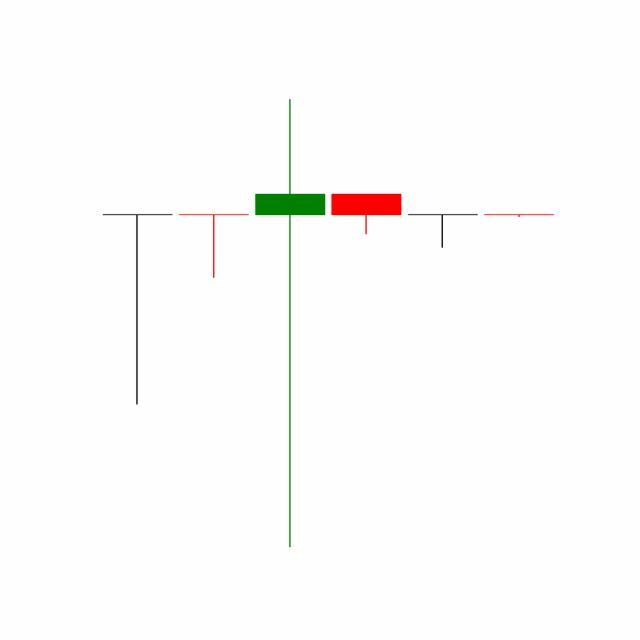Hammer: (404, 214, 482, 250)
